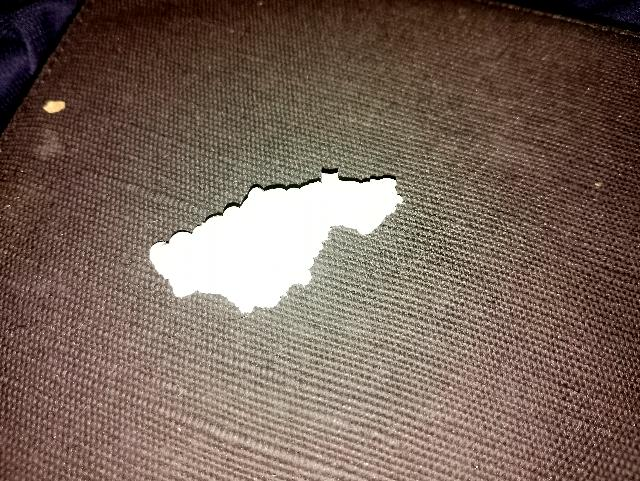cocksheet: (153, 163, 406, 304)
